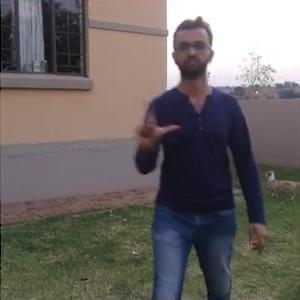land_hand: (128, 92, 183, 149)
